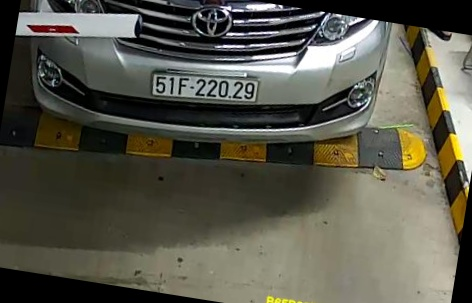plate: (149, 66, 263, 109)
